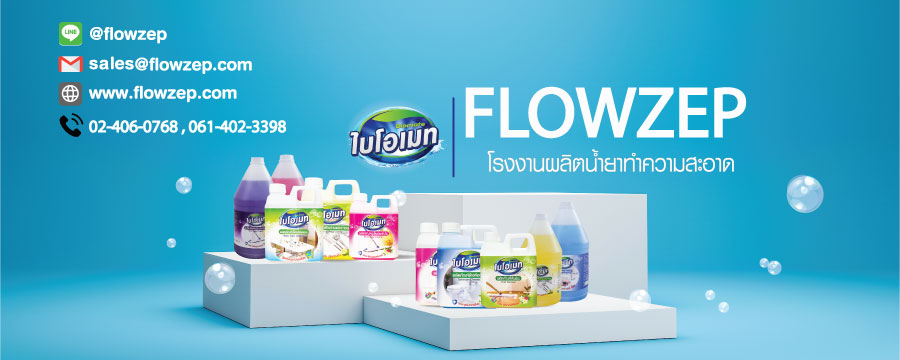Cleaning_solution: (262, 178, 329, 265), (230, 151, 282, 262), (476, 229, 540, 313), (548, 196, 594, 304), (433, 218, 482, 312), (348, 189, 402, 264)
